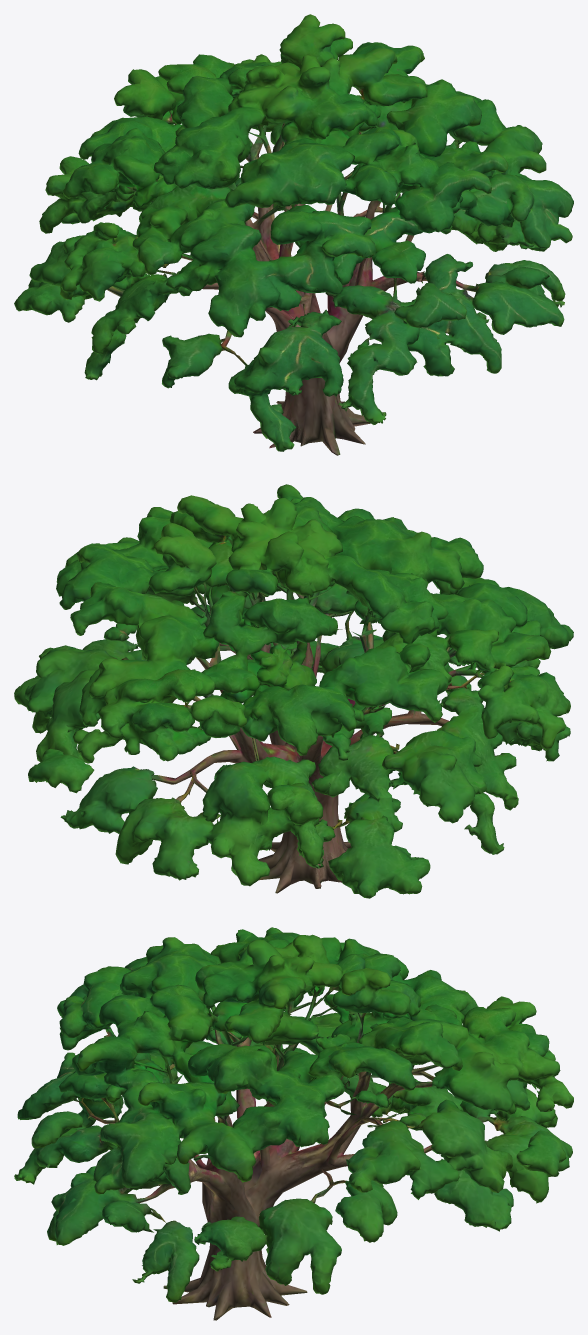
The model's file is broad-english-oak-r1_semantic.glb.
The picture shows the model from 3 angles, top to bottom: view 1: azimuth 30°, elevation 25°; view 2: azimuth 150°, elevation 25°; view 3: azimuth 270°, elevation 25°; orthographic projection. The views are drawn at different scales.
Parts seen in each view (by area): view 1: Mesh_0; view 2: Mesh_0; view 3: Mesh_0.
Boxes of the visible parts, x1,y1,x2,y2 form: Mesh_0: [14, 14, 573, 455]; Mesh_0: [14, 484, 573, 898]; Mesh_0: [14, 927, 573, 1320].
Bounding box in the file's own units: 15.5 × 10.94 × 15.42.
2 materials, 2 textured.
